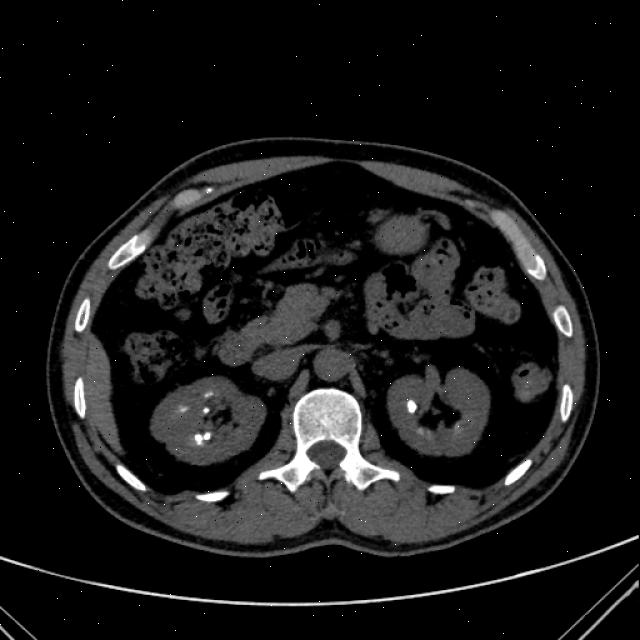kidneystone: (406, 400, 418, 413), (204, 392, 208, 401)
